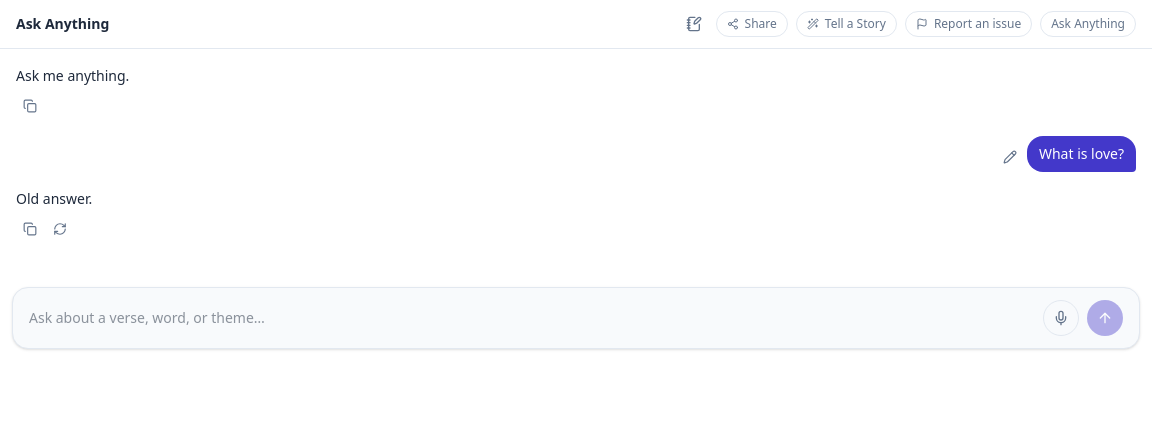
Test case: ChatPane › editing a user message drops the old reply and resends with the edited text
Click the button named "Edit message" at (1010, 157), box [999,146,1021,168]
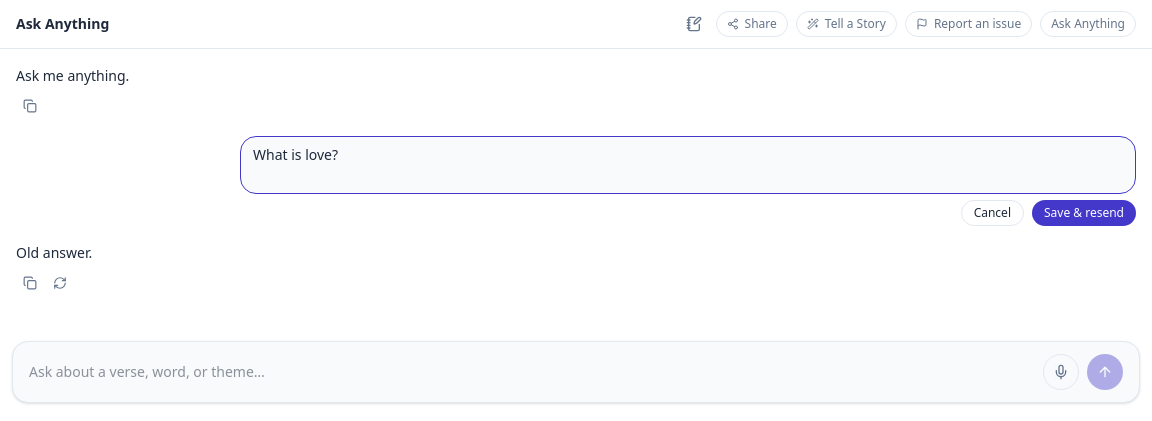
Replace the text in the text box named "Edit message" with "What is grace?" at (688, 165), box [240,136,1136,194]
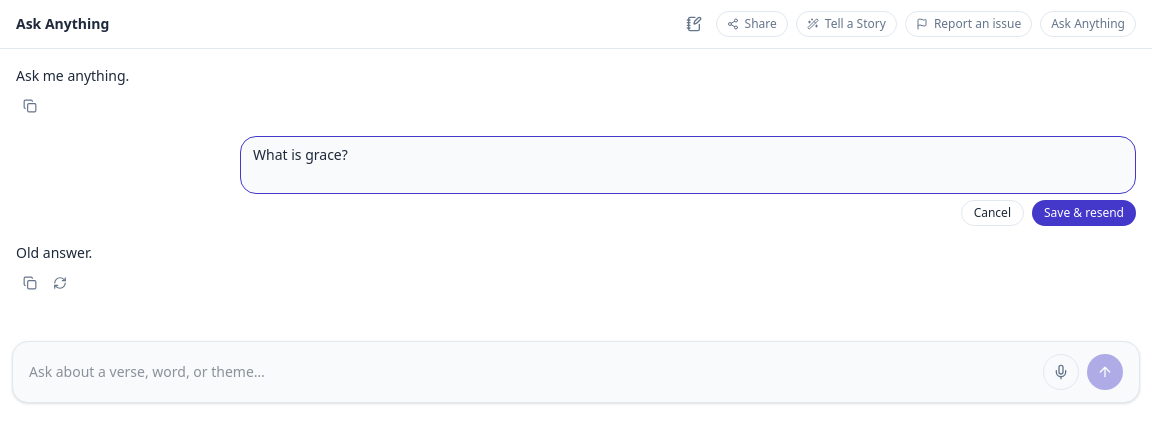
Click the button "Save & resend" at (1084, 213), box [1032,200,1136,226]
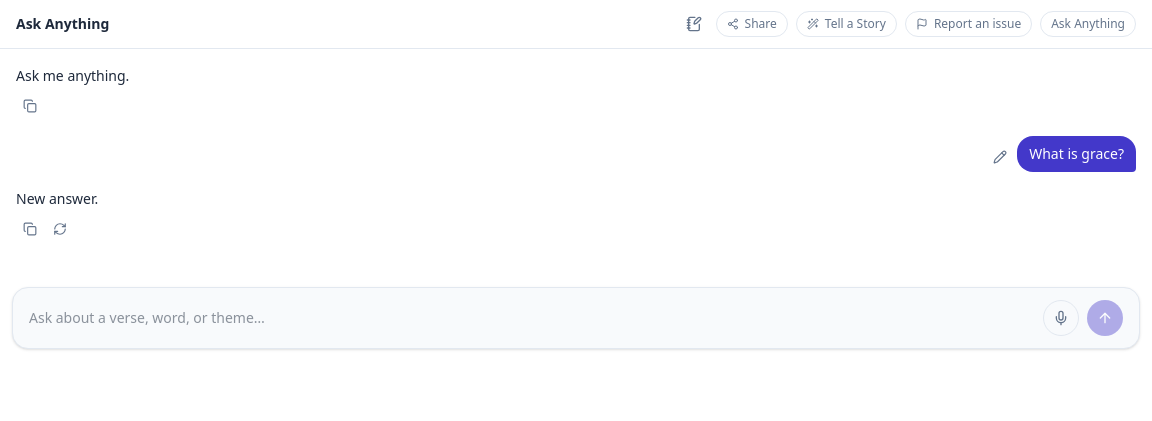
expect the text "New answer." is shown: met, box [16,188,98,209]
expect the text "Old answer." is gone: met
expect the text "What is grace?" is shown: met, box [1017,136,1136,172]
